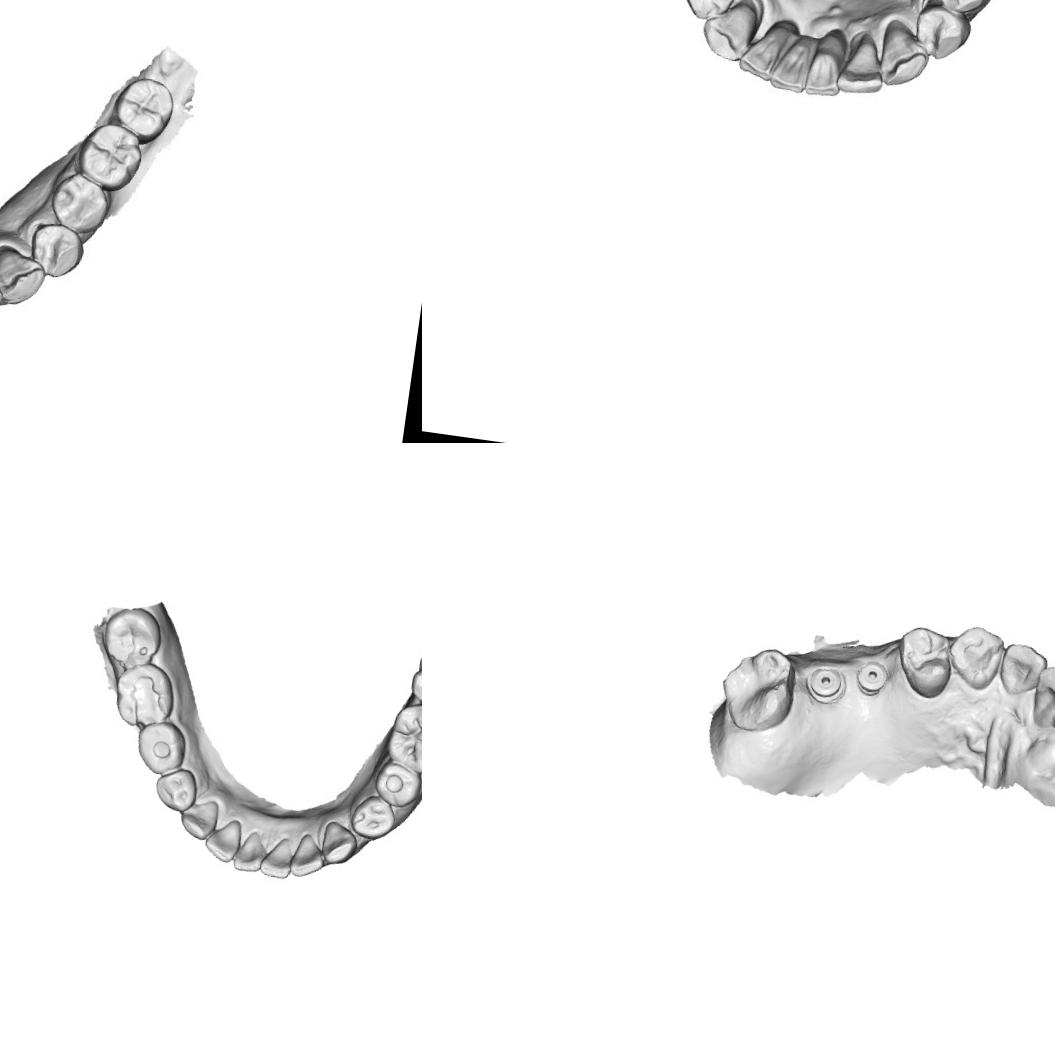canine: (943, 620, 1008, 694), (695, 0, 764, 67), (876, 21, 933, 84), (0, 241, 49, 310), (318, 819, 361, 868), (177, 796, 220, 842)
implant: (804, 660, 846, 706), (853, 656, 893, 700)
incisor: (994, 640, 1050, 702), (804, 29, 852, 98), (837, 36, 889, 98), (740, 19, 792, 81), (768, 28, 816, 92), (1028, 662, 1055, 736), (202, 816, 243, 864), (288, 831, 328, 880), (258, 834, 296, 880), (231, 828, 266, 874)
molar: (714, 639, 802, 738), (108, 73, 180, 148), (74, 119, 146, 194), (110, 657, 180, 732), (98, 603, 165, 674), (382, 699, 422, 778), (407, 645, 422, 714)
premolar: (890, 622, 959, 703), (48, 176, 112, 236), (27, 221, 88, 283), (914, 2, 973, 61), (133, 717, 189, 778), (371, 758, 422, 810), (348, 792, 398, 842), (152, 764, 200, 814), (678, 0, 741, 25), (929, 0, 999, 17)
